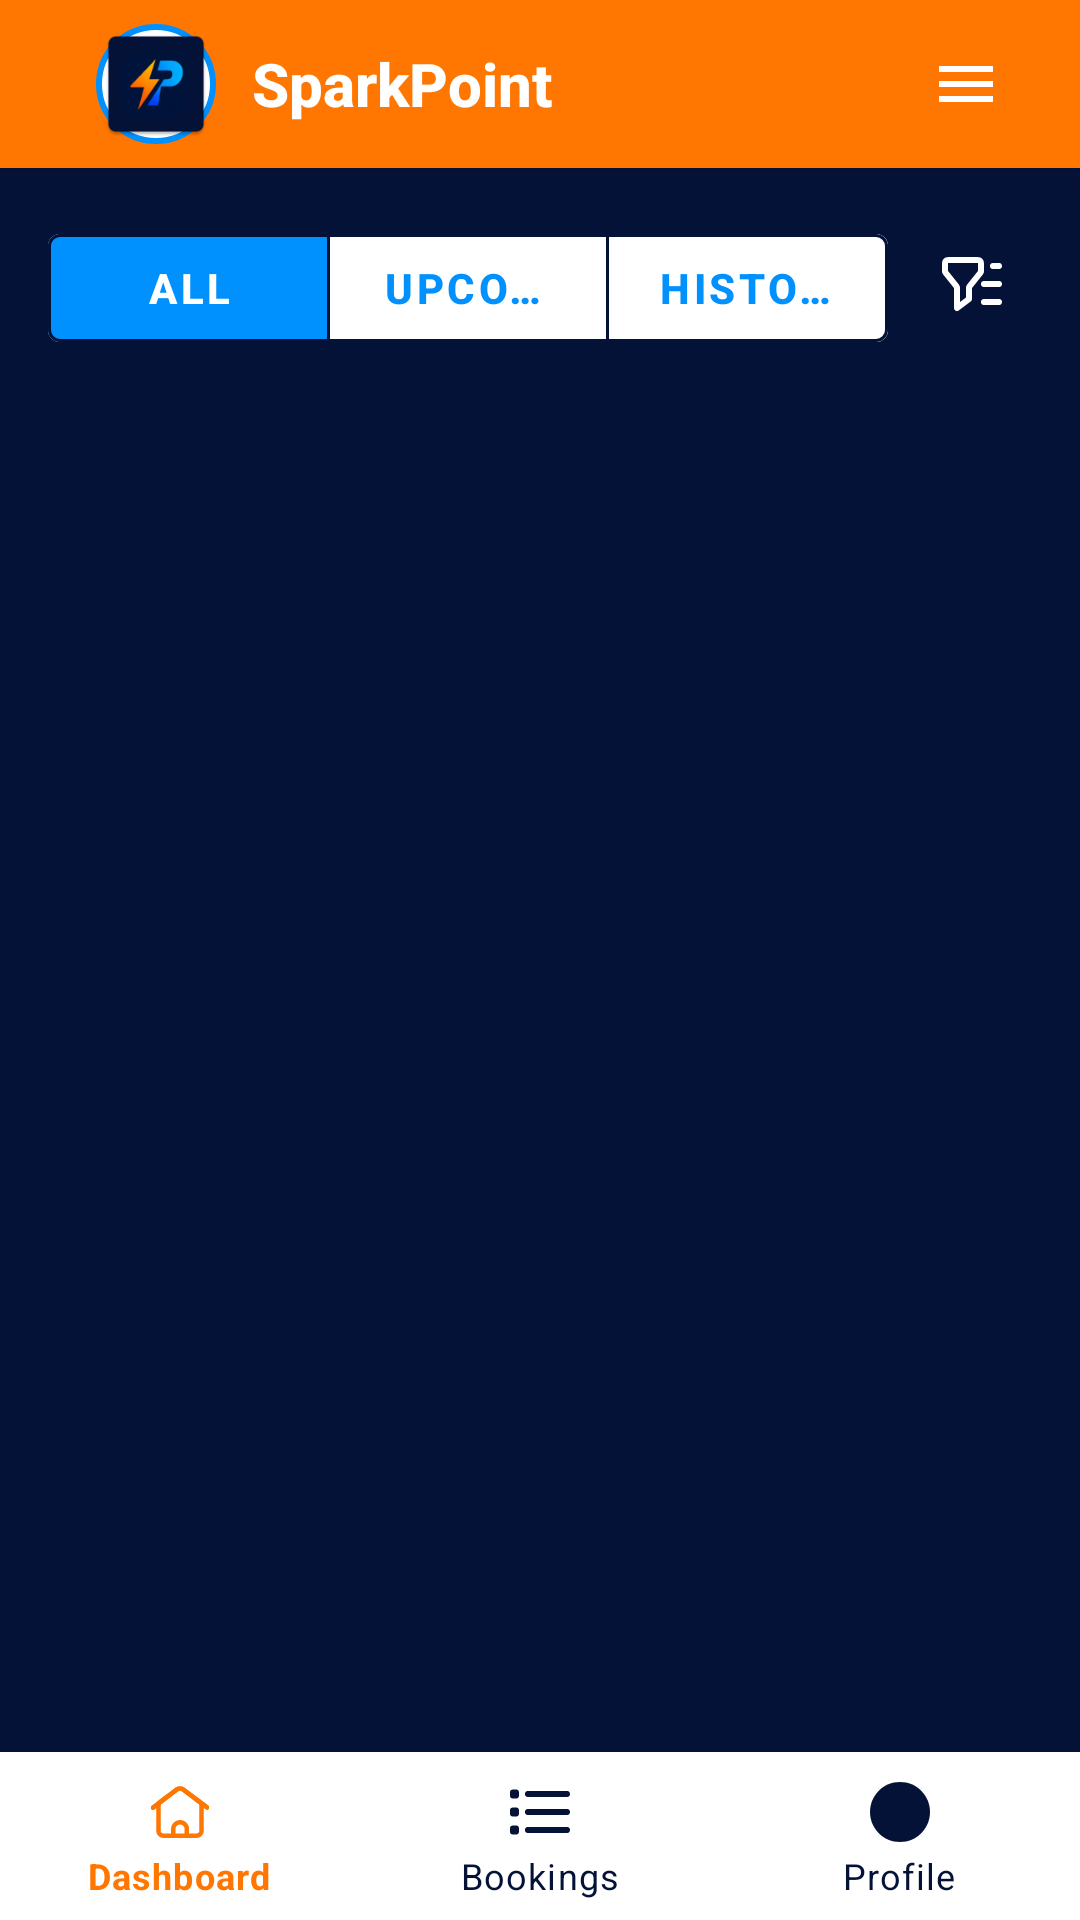

Icons on this 1080 x 1920 Android screen, each with the point to tap as (x=x, y=y):
Filter by status: (x=972, y=284)
Menu: (x=966, y=84)
